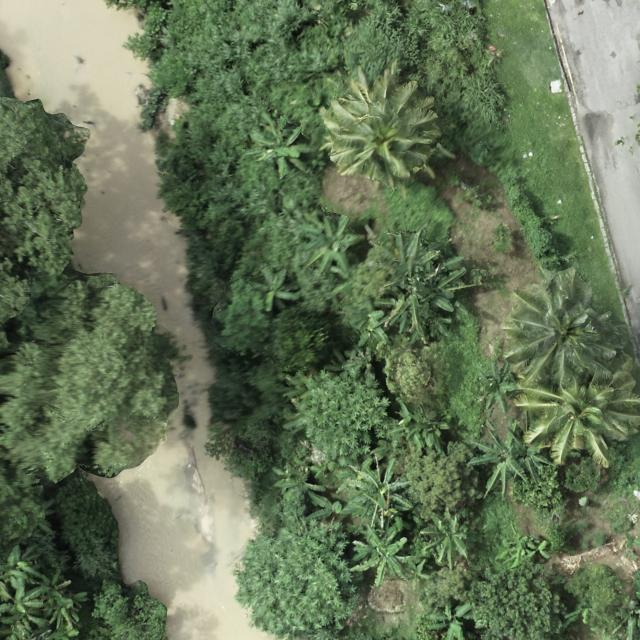Tree: (0, 274, 185, 480), (0, 95, 93, 338), (322, 56, 442, 190), (499, 268, 626, 387), (233, 518, 357, 638), (514, 366, 640, 464), (374, 256, 466, 343), (298, 373, 389, 456), (467, 563, 565, 640), (404, 442, 481, 517), (463, 419, 529, 500), (375, 341, 456, 405), (338, 458, 414, 526), (368, 230, 447, 292), (565, 564, 630, 631), (245, 113, 309, 179), (350, 524, 418, 586), (300, 213, 364, 277), (38, 568, 91, 632), (388, 399, 449, 454), (419, 507, 470, 569), (506, 426, 556, 485), (508, 464, 562, 518), (496, 521, 550, 571), (477, 360, 522, 414), (247, 266, 300, 311), (427, 599, 482, 640), (305, 488, 364, 524), (0, 579, 48, 621), (612, 573, 640, 639), (0, 544, 42, 584), (562, 457, 603, 492), (323, 350, 359, 380), (0, 619, 49, 640)
